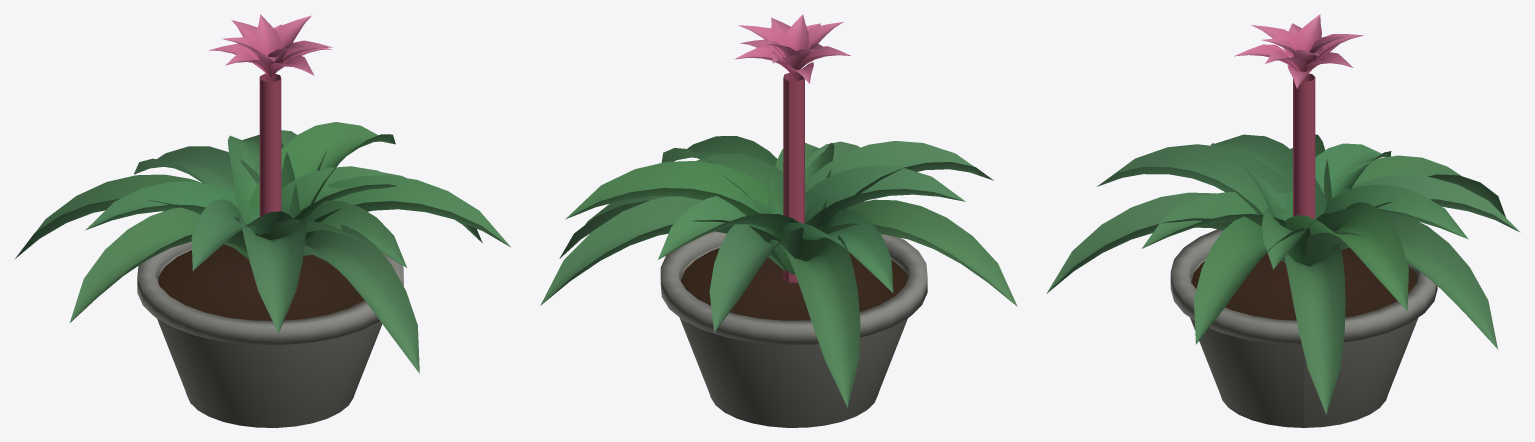
Rendered from bromelia.glb.
The picture shows the model from 3 angles, left to right: view 1: azimuth 30°, elevation 25°; view 2: azimuth 150°, elevation 25°; view 3: azimuth 270°, elevation 25°; orthographic projection.
Visible parts, largest first — view 1: bromelia; view 2: bromelia; view 3: bromelia.
Boxes of the visible parts, x1,y1,x2,y2 form: bromelia: (14, 14, 510, 427); bromelia: (540, 14, 1017, 427); bromelia: (1046, 14, 1520, 427).
Size of the model in its own units: 0.3596 by 0.2846 by 0.3391.
